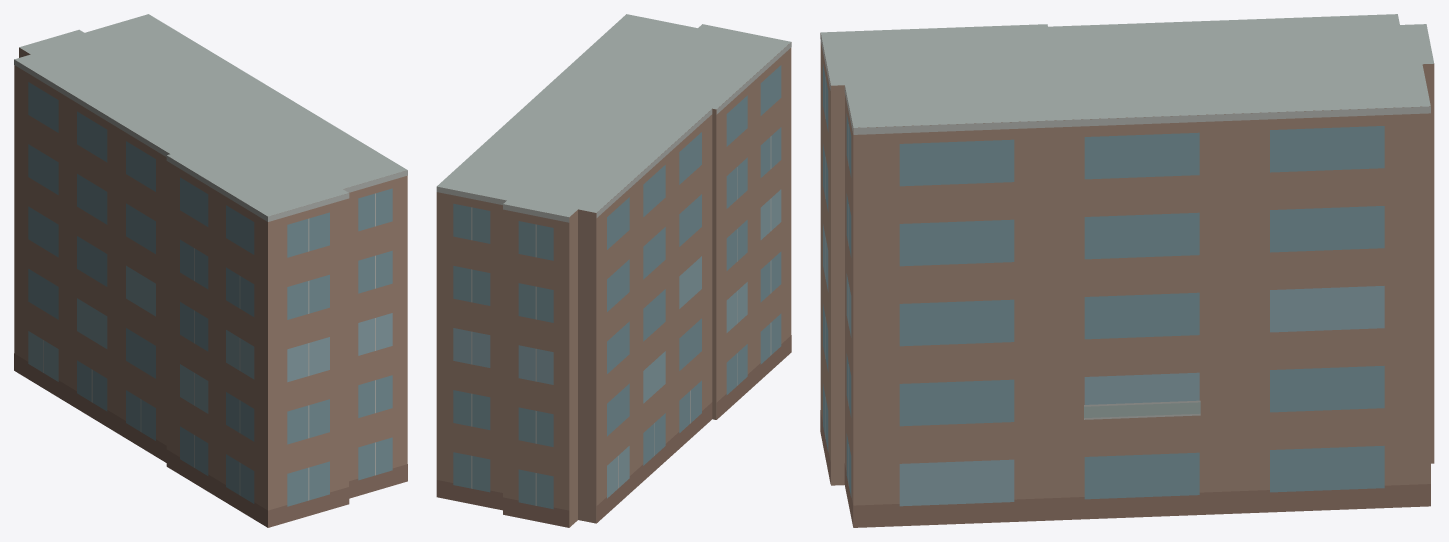
The model's file is survey-upis-32622061.glb.
3 views of the same model, side by side, from view 1: azimuth 30°, elevation 25°; view 2: azimuth 150°, elevation 25°; view 3: azimuth 270°, elevation 25° (orthographic). The views are drawn at different scales.
Visible parts, largest first — view 1: survey-upis-32622061.tmp; view 2: survey-upis-32622061.tmp; view 3: survey-upis-32622061.tmp.
Part boxes in pixels (x1,y1,x2,y2): survey-upis-32622061.tmp: (14, 14, 407, 527); survey-upis-32622061.tmp: (436, 14, 791, 527); survey-upis-32622061.tmp: (820, 14, 1434, 527).
Bounding box in the file's own units: 8.5 × 13.9 × 19.34.
